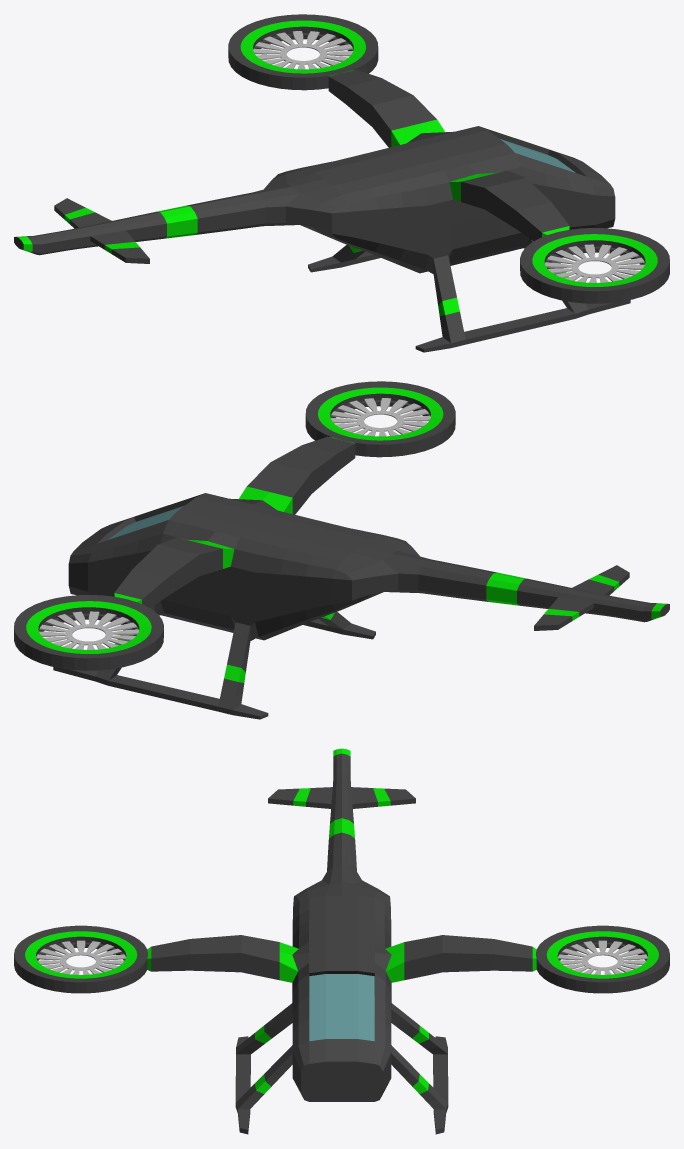
The model's file is Chopper.fbx.
3 renders of one model, top to bottom at view 1: azimuth 30°, elevation 25°; view 2: azimuth 150°, elevation 25°; view 3: azimuth 270°, elevation 25°, orthographic. The views are drawn at different scales.
Parts seen in each view (by area): view 1: Futuristic Chopper; view 2: Futuristic Chopper; view 3: Futuristic Chopper.
Boxes of the visible parts, x1,y1,x2,y2 form: Futuristic Chopper: (14, 14, 669, 352); Futuristic Chopper: (14, 381, 669, 719); Futuristic Chopper: (14, 748, 669, 1134).
Bounding box in the file's own units: 1202 × 318 × 1332.
